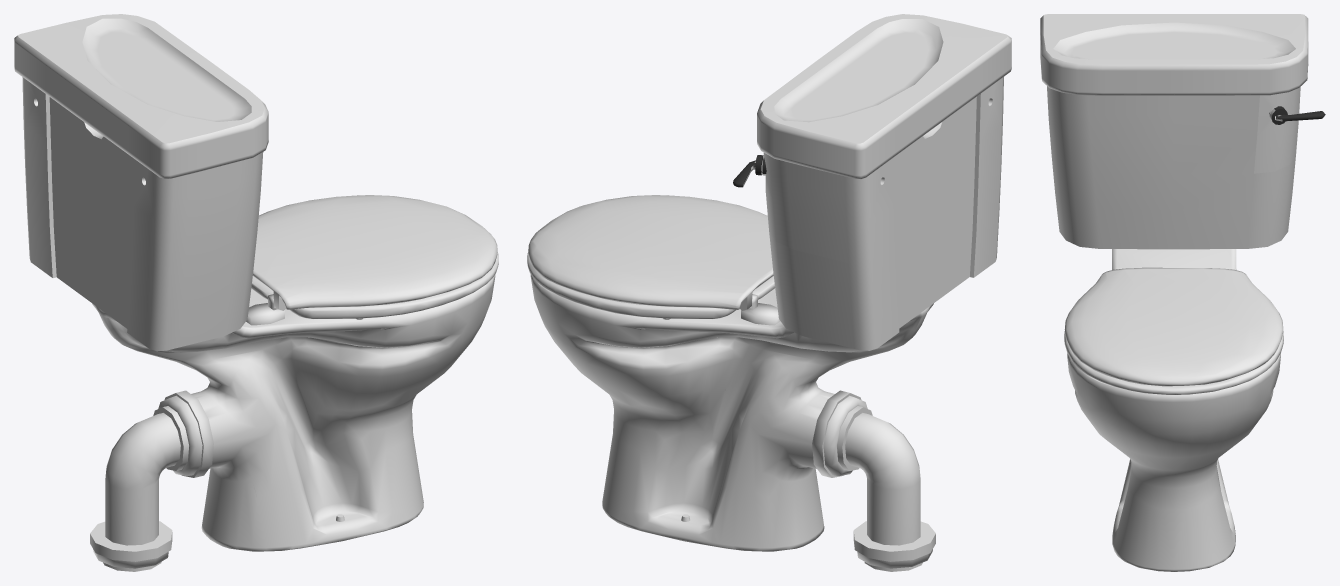
File: Toilet.fbx
3 views of the same model, side by side, from view 1: azimuth 30°, elevation 25°; view 2: azimuth 150°, elevation 25°; view 3: azimuth 270°, elevation 25° (orthographic). The views are drawn at different scales.
Parts seen in each view (by area): view 1: Cube.005; view 2: Cube.005; view 3: Cube.005.
Part boxes in pixels (<box>): Cube.005: <box>14,14,498,571</box>; Cube.005: <box>527,14,1011,571</box>; Cube.005: <box>1040,14,1325,571</box>.
Bounding box in the file's own units: 269 × 312 × 192.
1 material, 1 textured.
